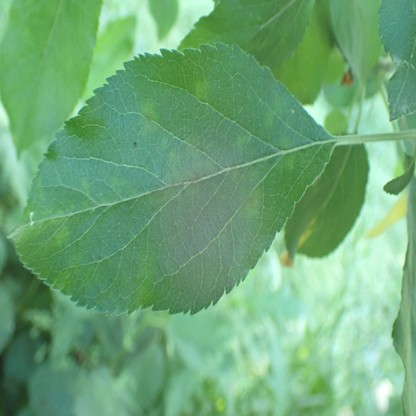scab: (156, 137, 214, 195), (107, 173, 139, 204), (237, 186, 263, 219), (50, 208, 69, 242), (277, 139, 295, 173), (139, 104, 157, 134), (196, 80, 208, 102), (233, 135, 249, 150), (263, 110, 274, 128), (80, 176, 90, 191)
